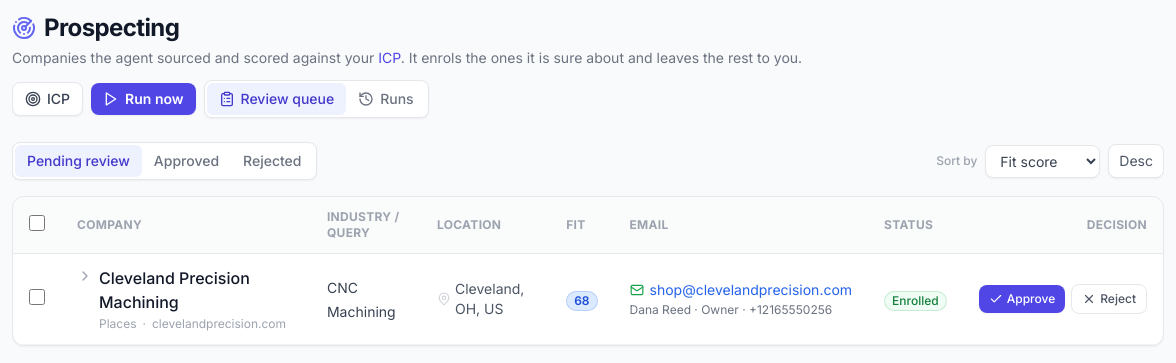
Test: Prospecting page › hides the decision buttons for already-reviewed candidates
This screenshot has width=1176, height=363.
Step 1. Click the button "Approved" → {"x": 186, "y": 161}, box [142,145,231,177]
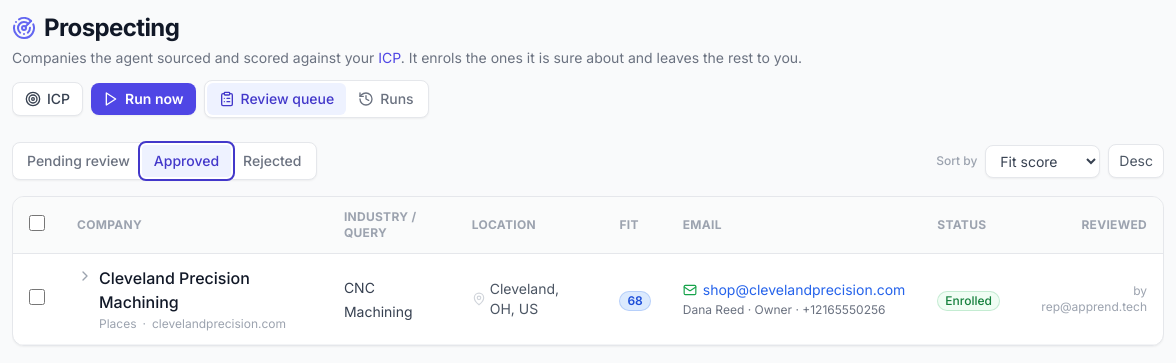
expect the text "by rep@apprend.tech" is shown: met, box [1032,283,1147,315]
